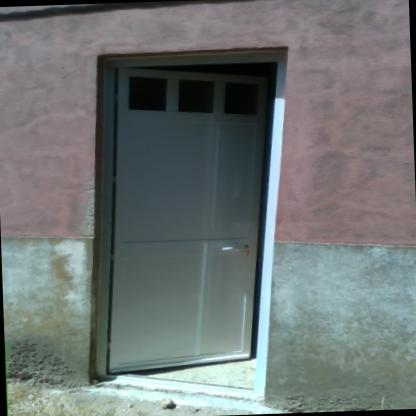closed: (80, 29, 303, 403)
